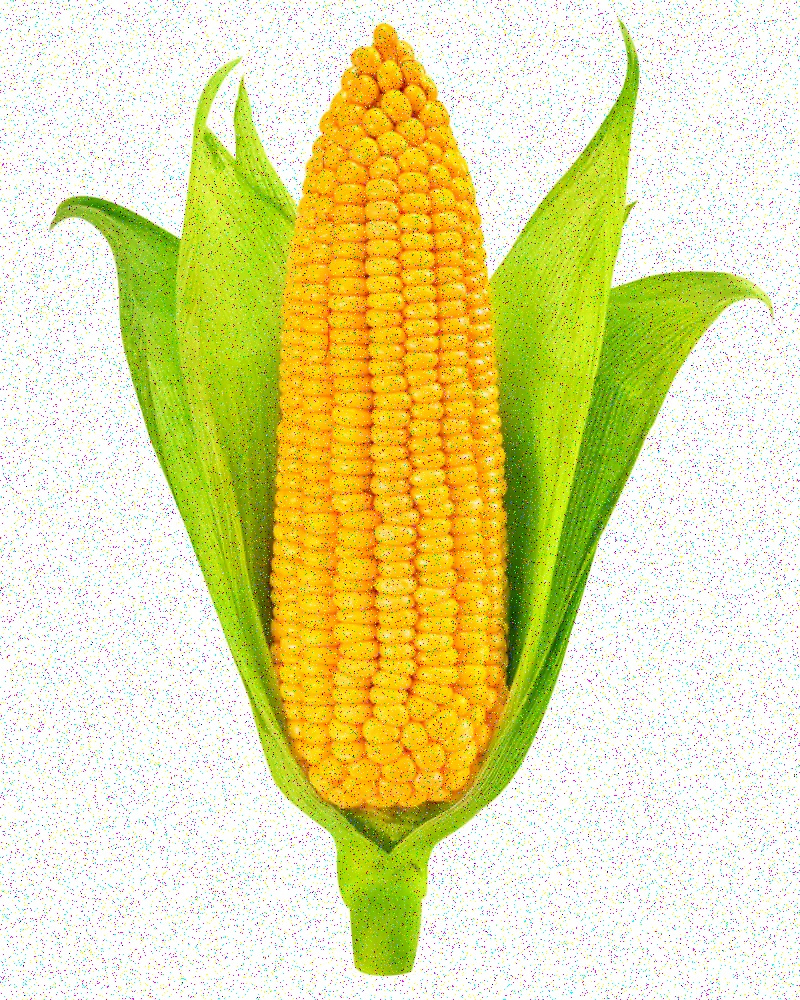corn: (251, 12, 506, 839)
